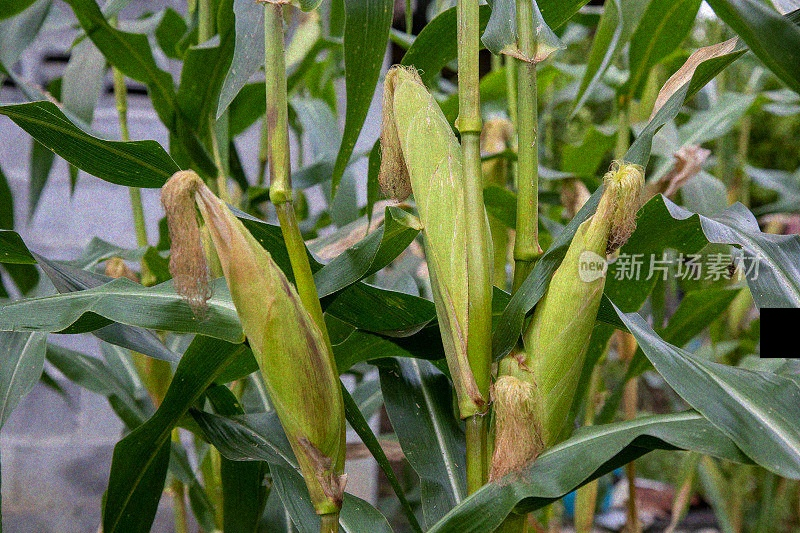corn_plant: (149, 165, 347, 505), (500, 154, 643, 478), (374, 69, 496, 416)
